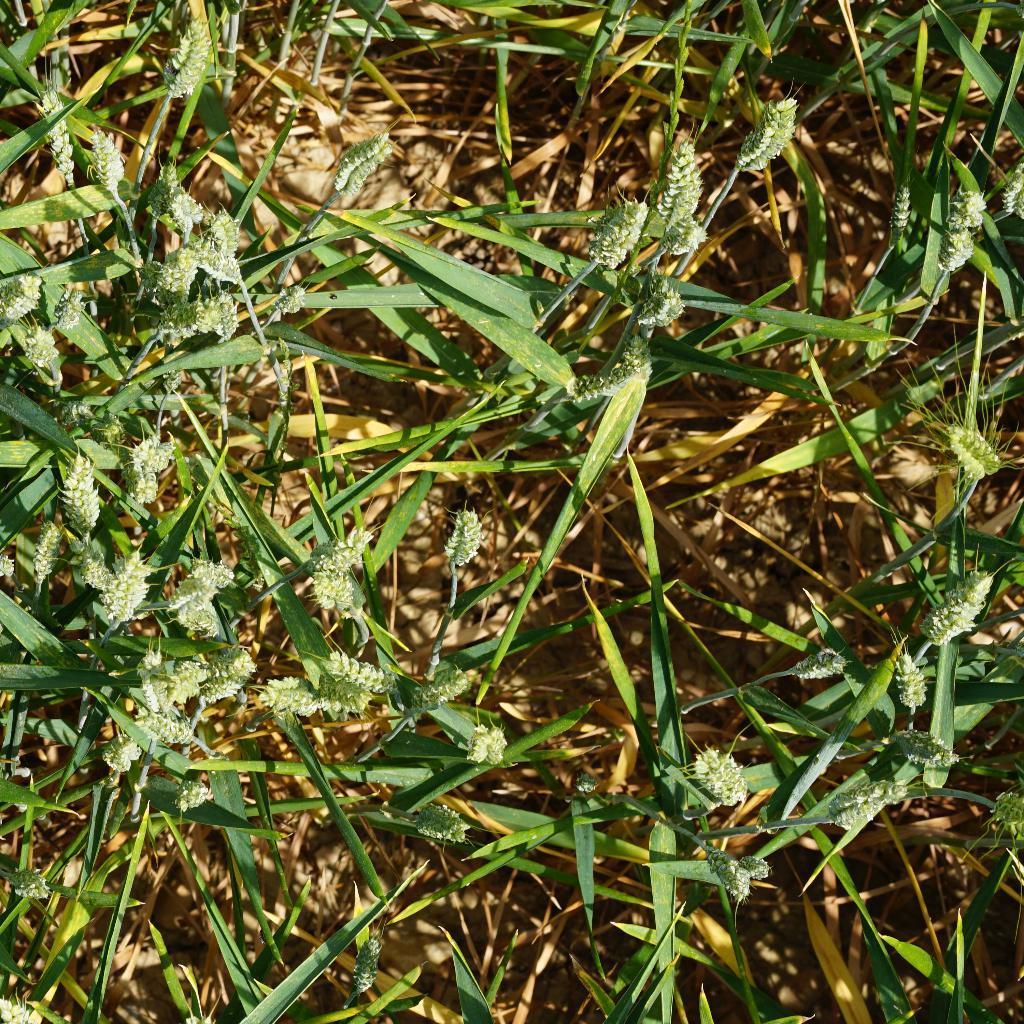0-0: (567, 324, 664, 414), (905, 565, 991, 651), (318, 115, 396, 208), (732, 90, 804, 178), (935, 396, 1005, 484), (810, 772, 909, 834), (580, 185, 649, 271), (686, 735, 752, 817), (621, 268, 697, 337), (867, 714, 964, 768), (160, 12, 215, 106), (116, 441, 178, 523), (430, 497, 493, 575), (34, 75, 78, 185), (307, 651, 400, 703), (144, 290, 235, 343), (55, 451, 108, 542), (649, 142, 702, 230), (406, 792, 477, 855), (703, 836, 769, 903), (82, 116, 133, 202), (96, 557, 156, 630), (881, 646, 952, 707), (443, 714, 519, 770), (164, 557, 240, 612), (963, 772, 1021, 844), (404, 668, 485, 718), (90, 717, 161, 773), (197, 653, 262, 714), (258, 672, 320, 735), (153, 161, 206, 234), (343, 933, 404, 996), (8, 317, 74, 373), (142, 650, 200, 713), (309, 515, 374, 570), (302, 561, 362, 620), (48, 277, 101, 343), (782, 643, 855, 689), (0, 264, 53, 326), (135, 240, 197, 291), (877, 178, 922, 247), (198, 202, 247, 264), (176, 597, 228, 654), (120, 432, 185, 475), (934, 217, 982, 275), (941, 185, 994, 233), (665, 202, 701, 272), (187, 244, 249, 284), (163, 763, 208, 818), (272, 273, 318, 325), (82, 412, 140, 453), (29, 518, 63, 586), (10, 862, 53, 912), (0, 993, 59, 1024), (78, 544, 115, 589), (154, 1001, 221, 1024), (51, 397, 98, 429), (727, 853, 778, 882), (0, 795, 23, 859), (157, 365, 186, 399), (571, 769, 605, 797), (0, 549, 18, 581)
